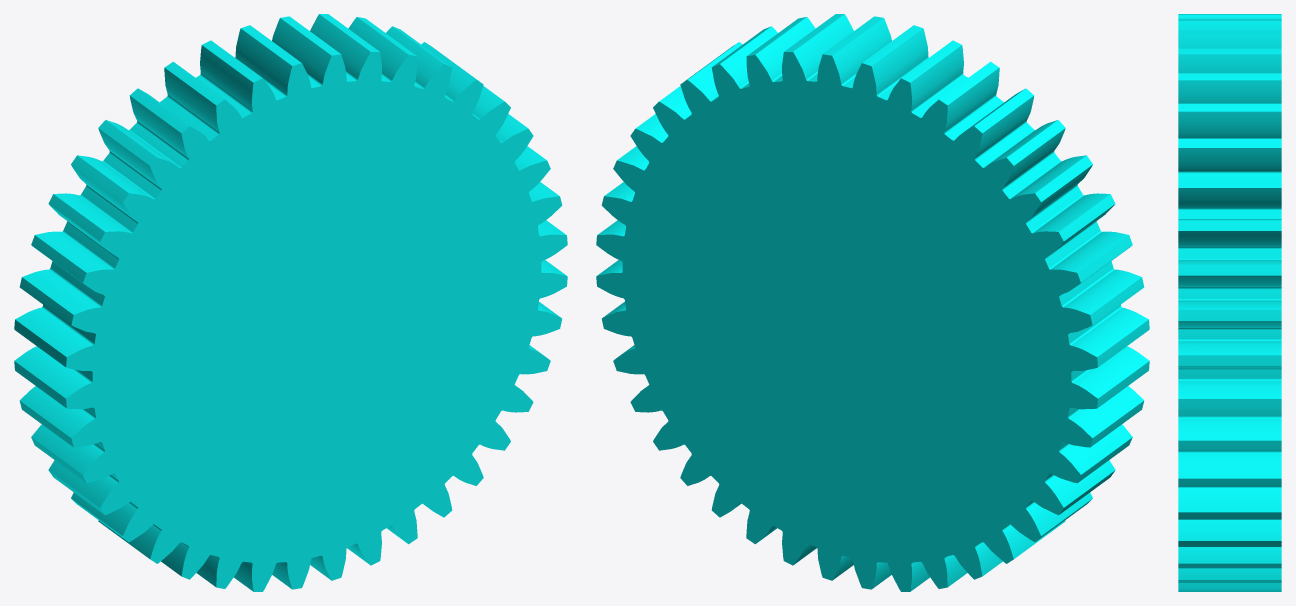
The model's file is 2.1 Gear.glb.
The picture shows the model from 3 angles, left to right: view 1: azimuth 30°, elevation 25°; view 2: azimuth 150°, elevation 25°; view 3: azimuth 270°, elevation 25°; orthographic projection.
Parts seen in each view (by area): view 1: 零件1; view 2: 零件1; view 3: 零件1.
Boxes of the visible parts, <box> form: 零件1: <box>14,14,567,591</box>; 零件1: <box>596,14,1149,591</box>; 零件1: <box>1178,14,1281,591</box>.
Size of the model in its own units: 0.0839 by 0.0839 by 0.015.
